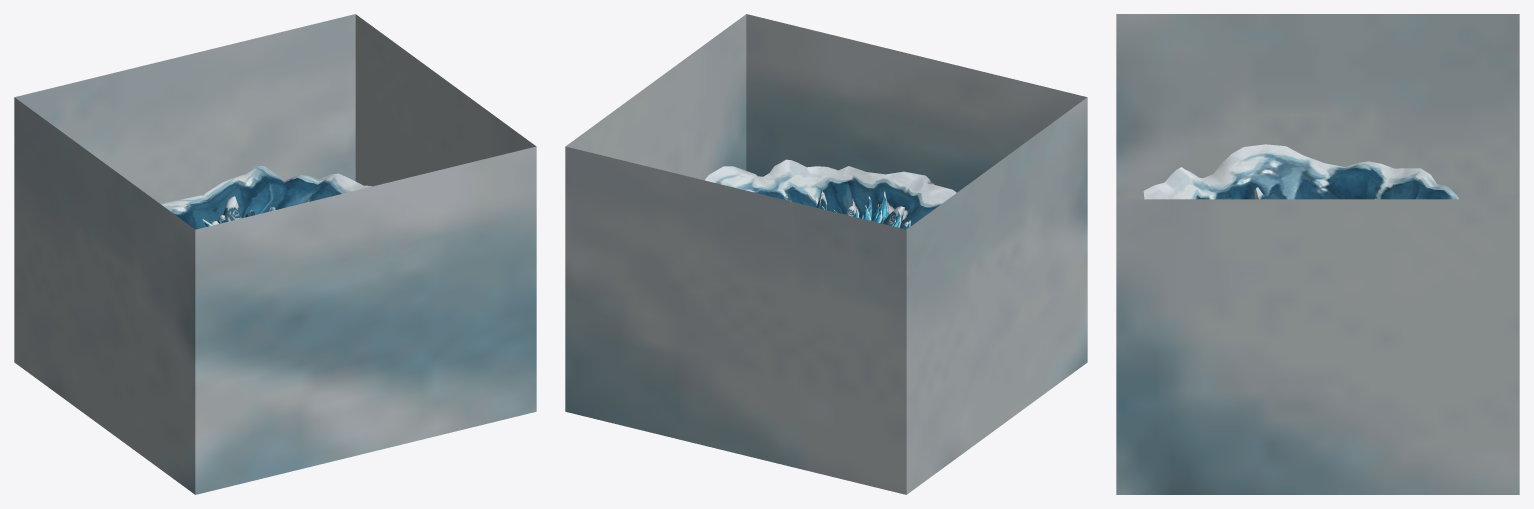
The model's file is Scene_beici.fbx.
3 renders of one model, left to right at view 1: azimuth 30°, elevation 25°; view 2: azimuth 150°, elevation 25°; view 3: azimuth 270°, elevation 25°, orthographic. The views are drawn at different scales.
Visible parts, largest first — view 1: Scene_beici_a1; view 2: Scene_beici_a1; view 3: Scene_beici_a1.
Part boxes in pixels (x1,y1,x2,y2): Scene_beici_a1: (14, 14, 536, 494); Scene_beici_a1: (565, 14, 1087, 494); Scene_beici_a1: (1116, 14, 1519, 494).
Size of the model in its own units: 10560 by 7849 by 9705.
